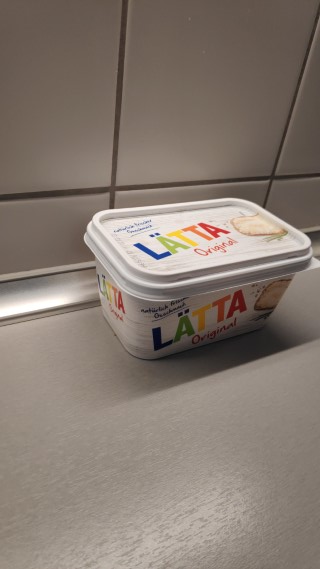laetta: (82, 196, 320, 361)
